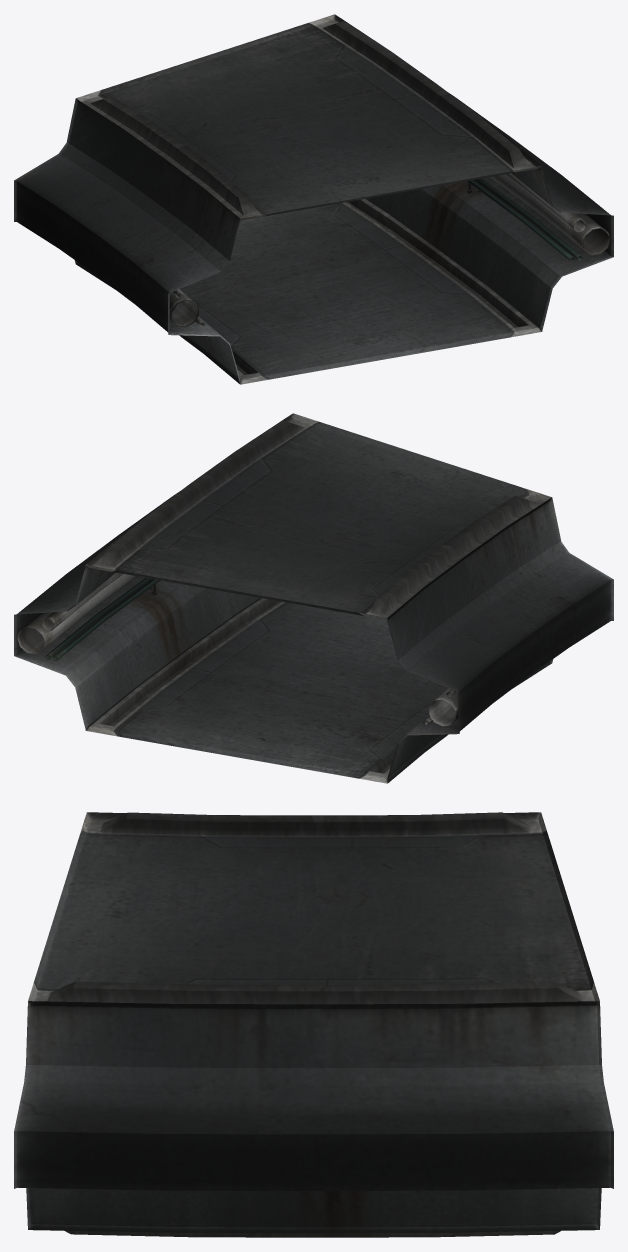
Rendered from Shaft_Ciurve.fbx.
3 renders of one model, top to bottom at view 1: azimuth 30°, elevation 25°; view 2: azimuth 150°, elevation 25°; view 3: azimuth 270°, elevation 25°, orthographic. The views are drawn at different scales.
Parts seen in each view (by area): view 1: Shaft_Ciurve; view 2: Shaft_Ciurve; view 3: Shaft_Ciurve.
Boxes of the visible parts, x1,y1,x2,y2 form: Shaft_Ciurve: (14, 14, 613, 384); Shaft_Ciurve: (14, 413, 613, 783); Shaft_Ciurve: (14, 812, 613, 1237).
Size of the model in its own units: 130 by 52.98 by 117.
